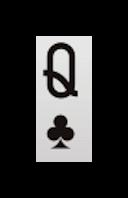QC: (39, 39, 81, 153)
